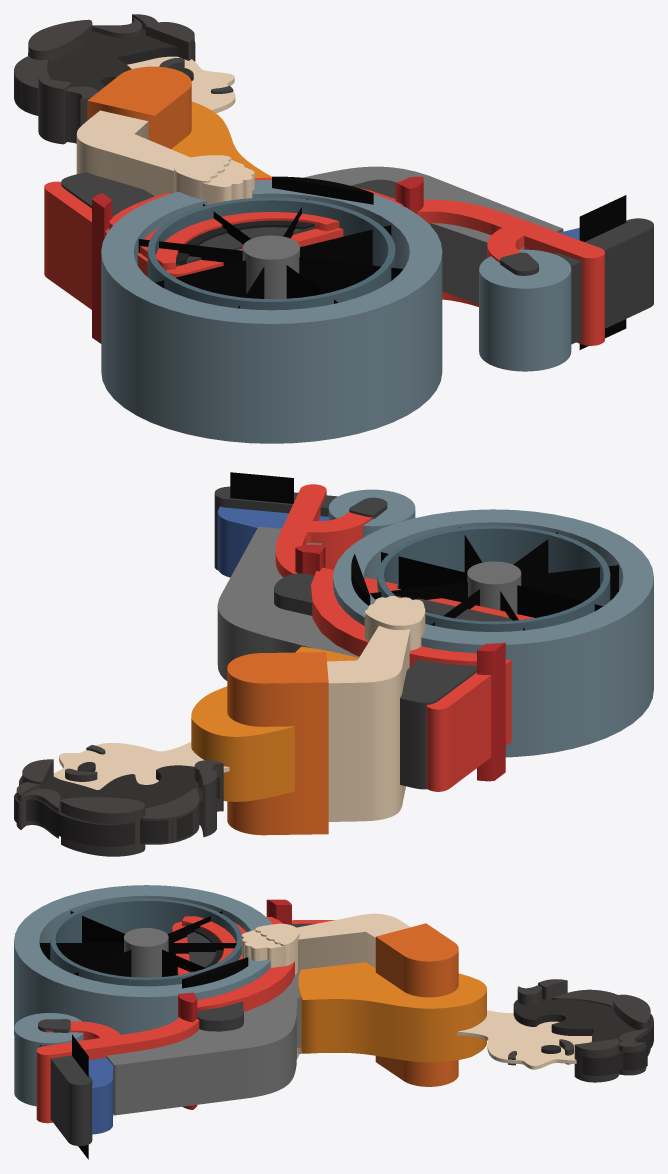
The model's file is emoji_u1f9d1_1f3fb_200d_1f9bd_200d_27a1.glb.
3 renders of one model, top to bottom at view 1: azimuth 30°, elevation 25°; view 2: azimuth 150°, elevation 25°; view 3: azimuth 270°, elevation 25°, orthographic. The views are drawn at different scales.
Visible parts, largest first — view 1: emoji_u1f9d1_1f3fb_200d_1f9bd_200d_27a1; view 2: emoji_u1f9d1_1f3fb_200d_1f9bd_200d_27a1; view 3: emoji_u1f9d1_1f3fb_200d_1f9bd_200d_27a1.
Part boxes in pixels (x1,y1,x2,y2): emoji_u1f9d1_1f3fb_200d_1f9bd_200d_27a1: [14, 14, 653, 443]; emoji_u1f9d1_1f3fb_200d_1f9bd_200d_27a1: [14, 472, 653, 856]; emoji_u1f9d1_1f3fb_200d_1f9bd_200d_27a1: [14, 885, 653, 1159].
Bounding box in the file's own units: 0.022 × 0.007 × 0.0324.
